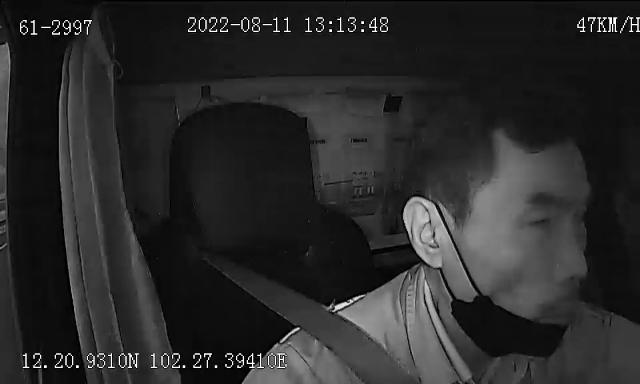Seatbelt: (202, 252, 420, 384)
